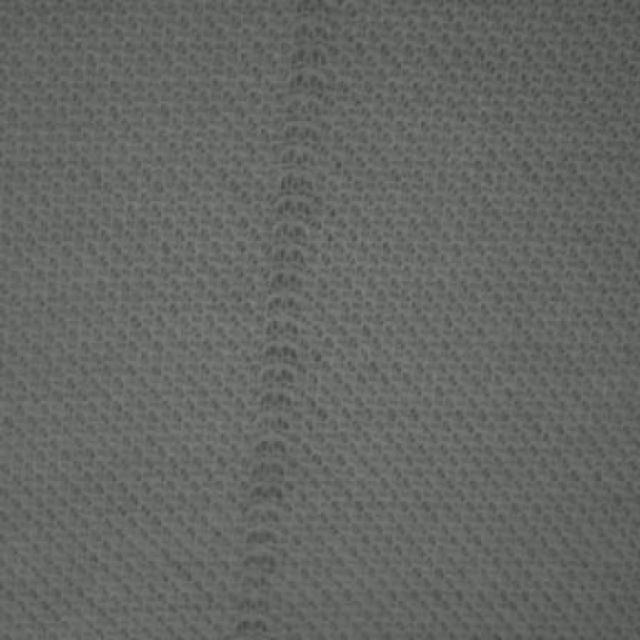Line: (230, 1, 330, 640)
